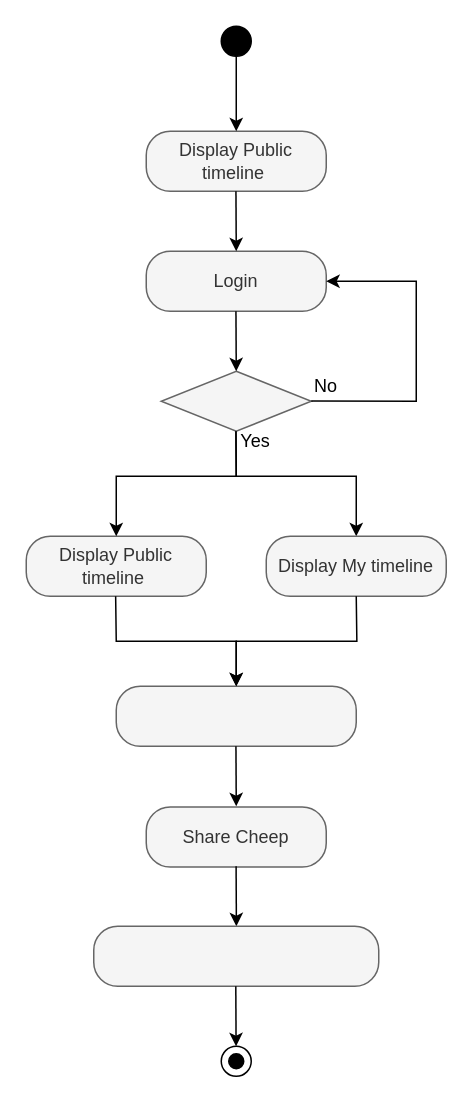
Some shapes in this 473 by 1103 pixel diagram are drawn without their labels. The shapes that lost their labels are listed below. From the top down, each one's centre as x and y in pixels, then its label:
the point at 235,400: Succesful?
the point at 235,715: Type Cheep (always limited to <= 160 characters)
the point at 235,955: Cheep is displayed at the top of timelines above other cheeps
